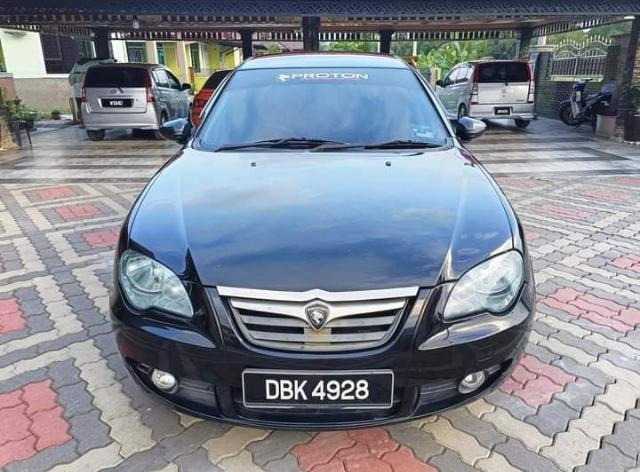License_Plate: (248, 373, 398, 410)
car: (107, 46, 541, 423)
